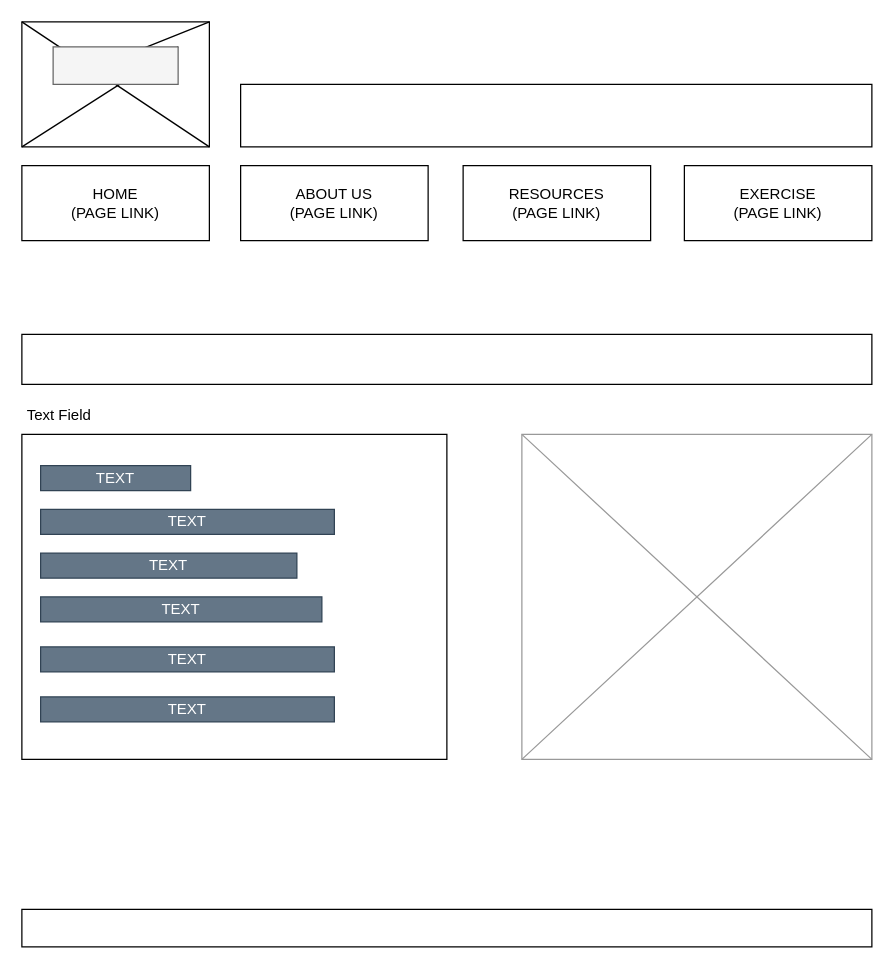
This 895x969 diagram has some shape labels left out. The shapes that lost their labels are listed below. From the top down, each one's box as (x1, y1, x2, y2) in pixels, then its label:
(52, 46, 178, 84): SITE LOGO (HOME LINK)
(239, 83, 872, 147): TAG LINE OR SLOGAN
(21, 333, 872, 384): PAGE NAME
(521, 433, 872, 759): RELEVANT IMAGE
(21, 908, 872, 947): LEGAL INFORMATION OR DECLARATIONS
